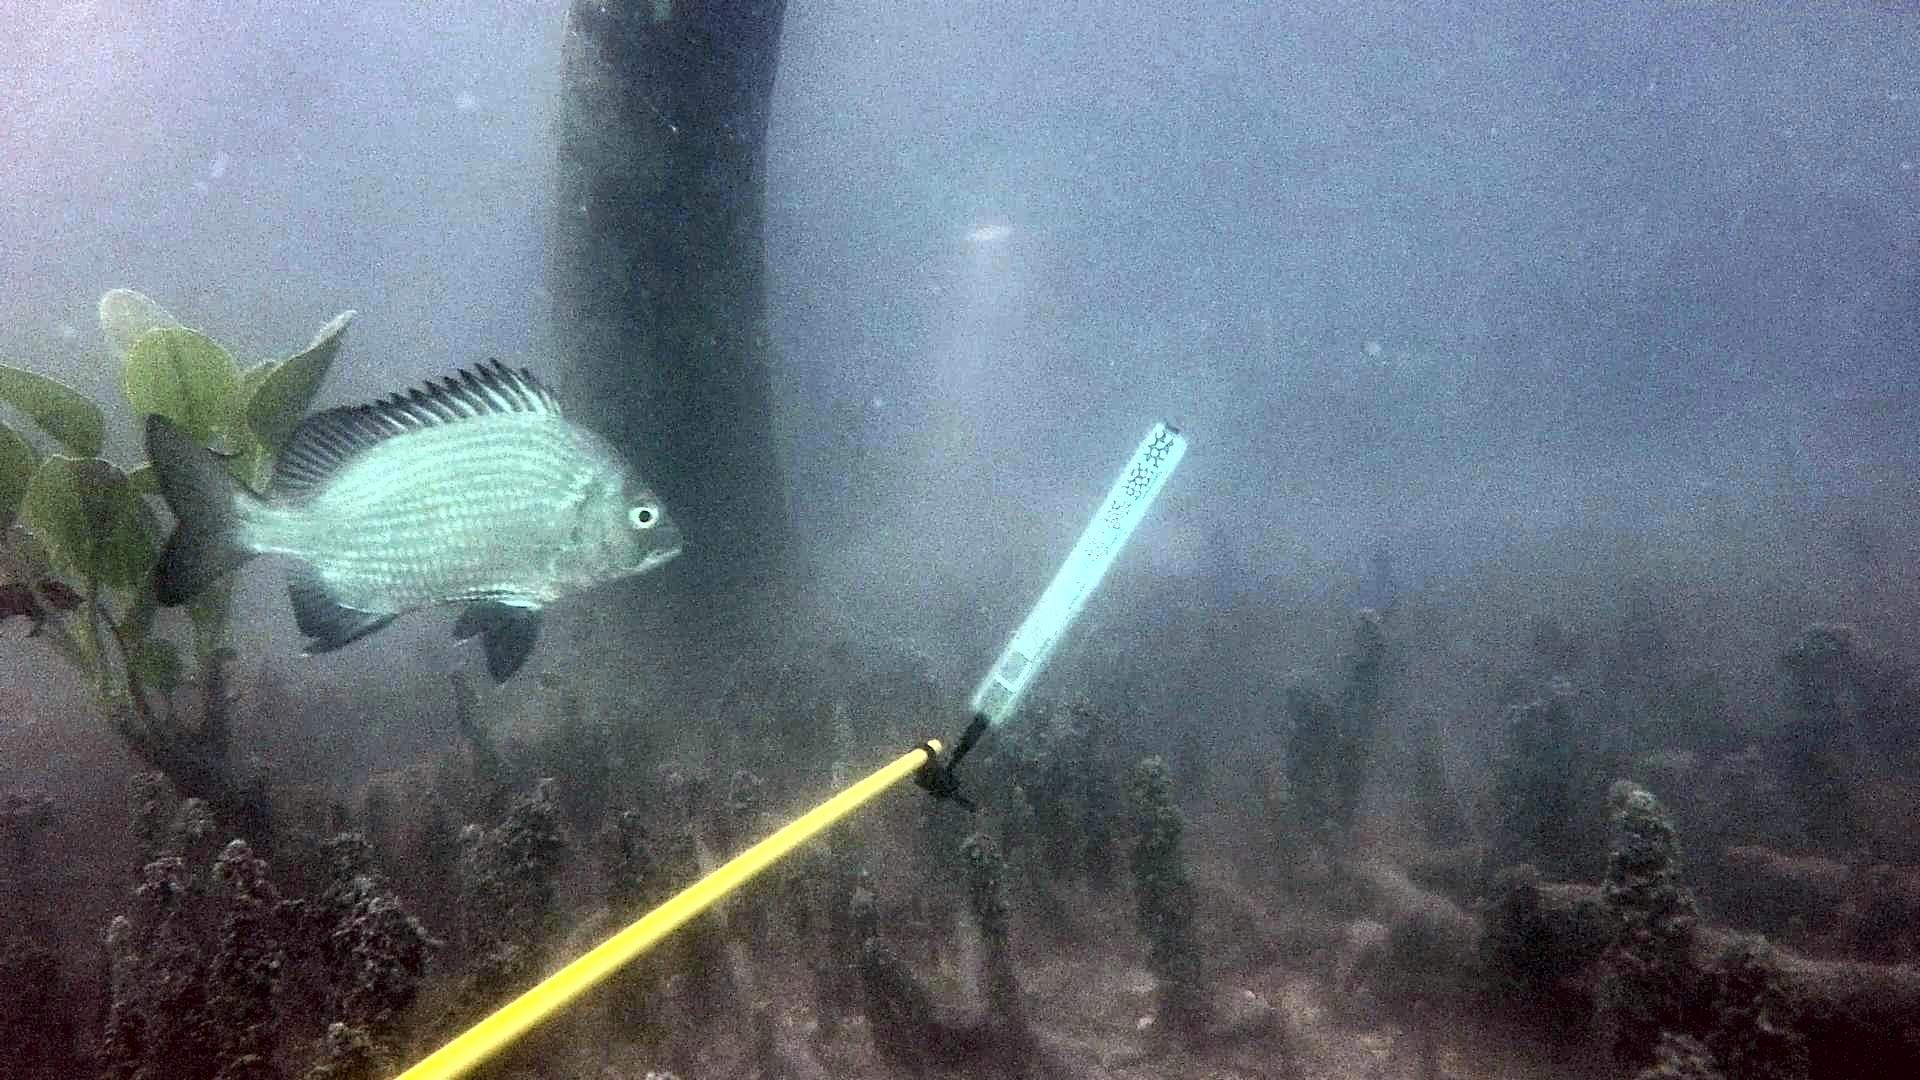acanthopagrus palmaris: (133, 352, 691, 688)
